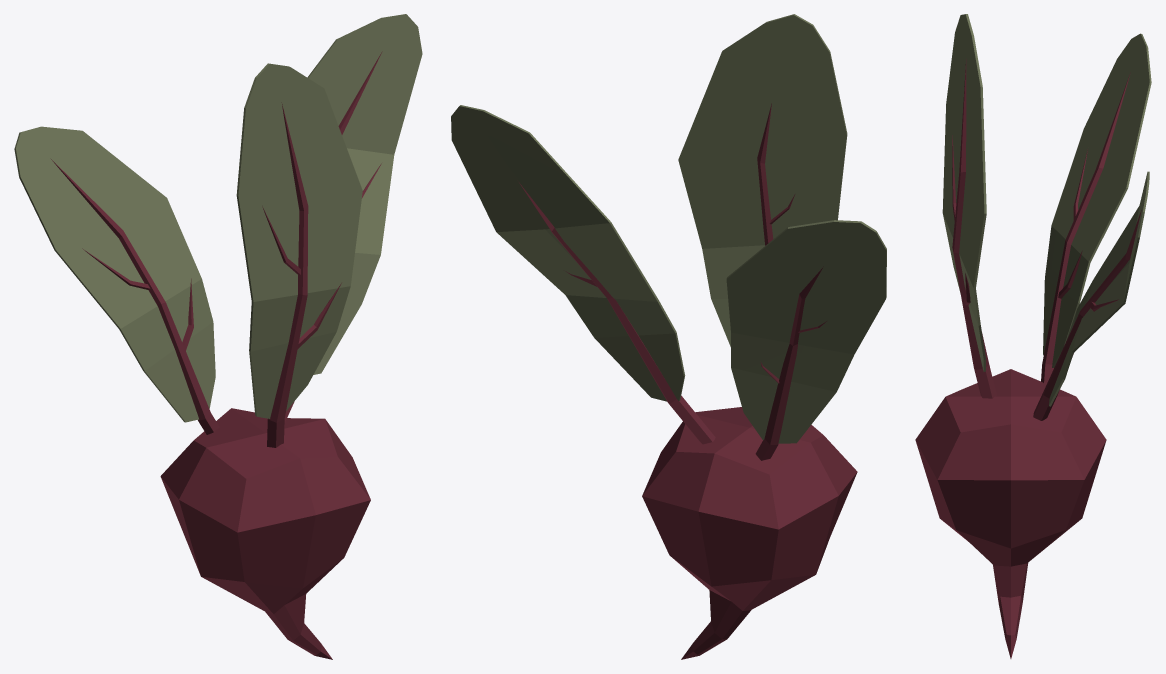
Rendered from beet_4.glb.
3 renders of one model, left to right at view 1: azimuth 30°, elevation 25°; view 2: azimuth 150°, elevation 25°; view 3: azimuth 270°, elevation 25°, orthographic. The views are drawn at different scales.
Parts seen in each view (by area): view 1: Beet_4; view 2: Beet_4; view 3: Beet_4.
Part boxes in pixels (x1,y1,x2,y2): Beet_4: (14, 14, 422, 659); Beet_4: (451, 14, 886, 659); Beet_4: (915, 14, 1151, 658).
Size of the model in its own units: 0.7512 by 1.1 by 0.3899.
